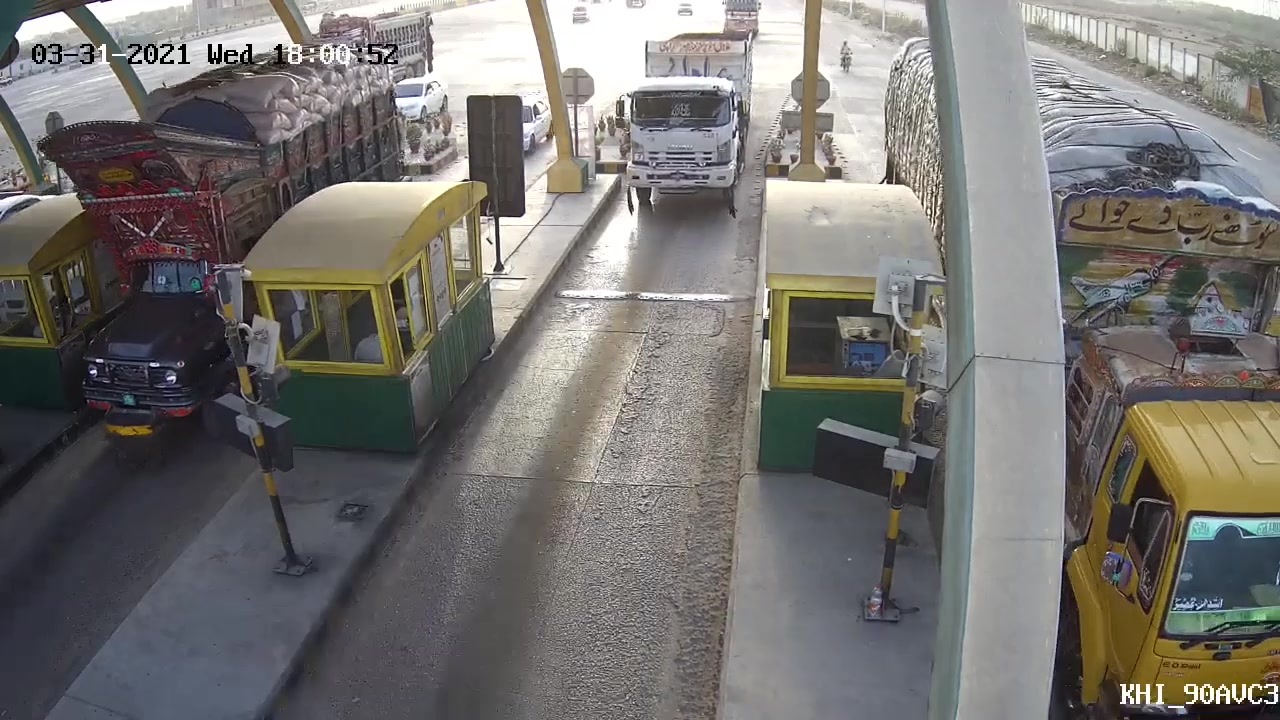F6: (602, 28, 768, 215)
